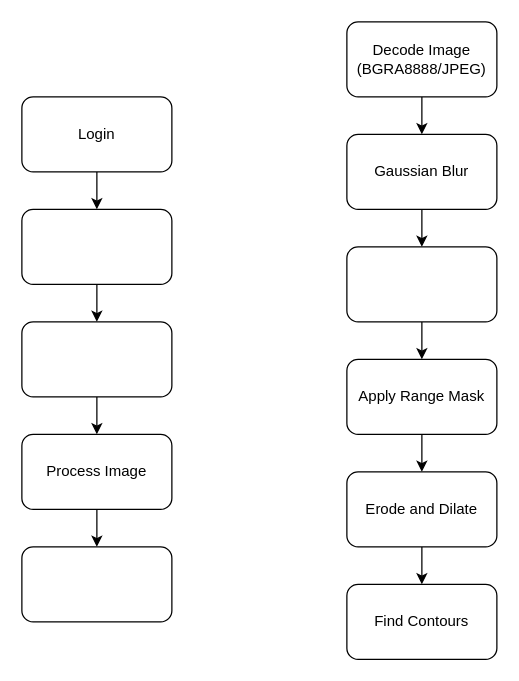
Image size: 519x681. Some labels were removed from this diagram. Here are the shapes that lost their labels. From the top down, the box of each, then its label:
(21, 208, 172, 284): Connect BLE
(346, 246, 497, 322): BGR to HSV
(21, 321, 172, 397): Get Image from Camera
(21, 546, 172, 622): Send results through BLE
